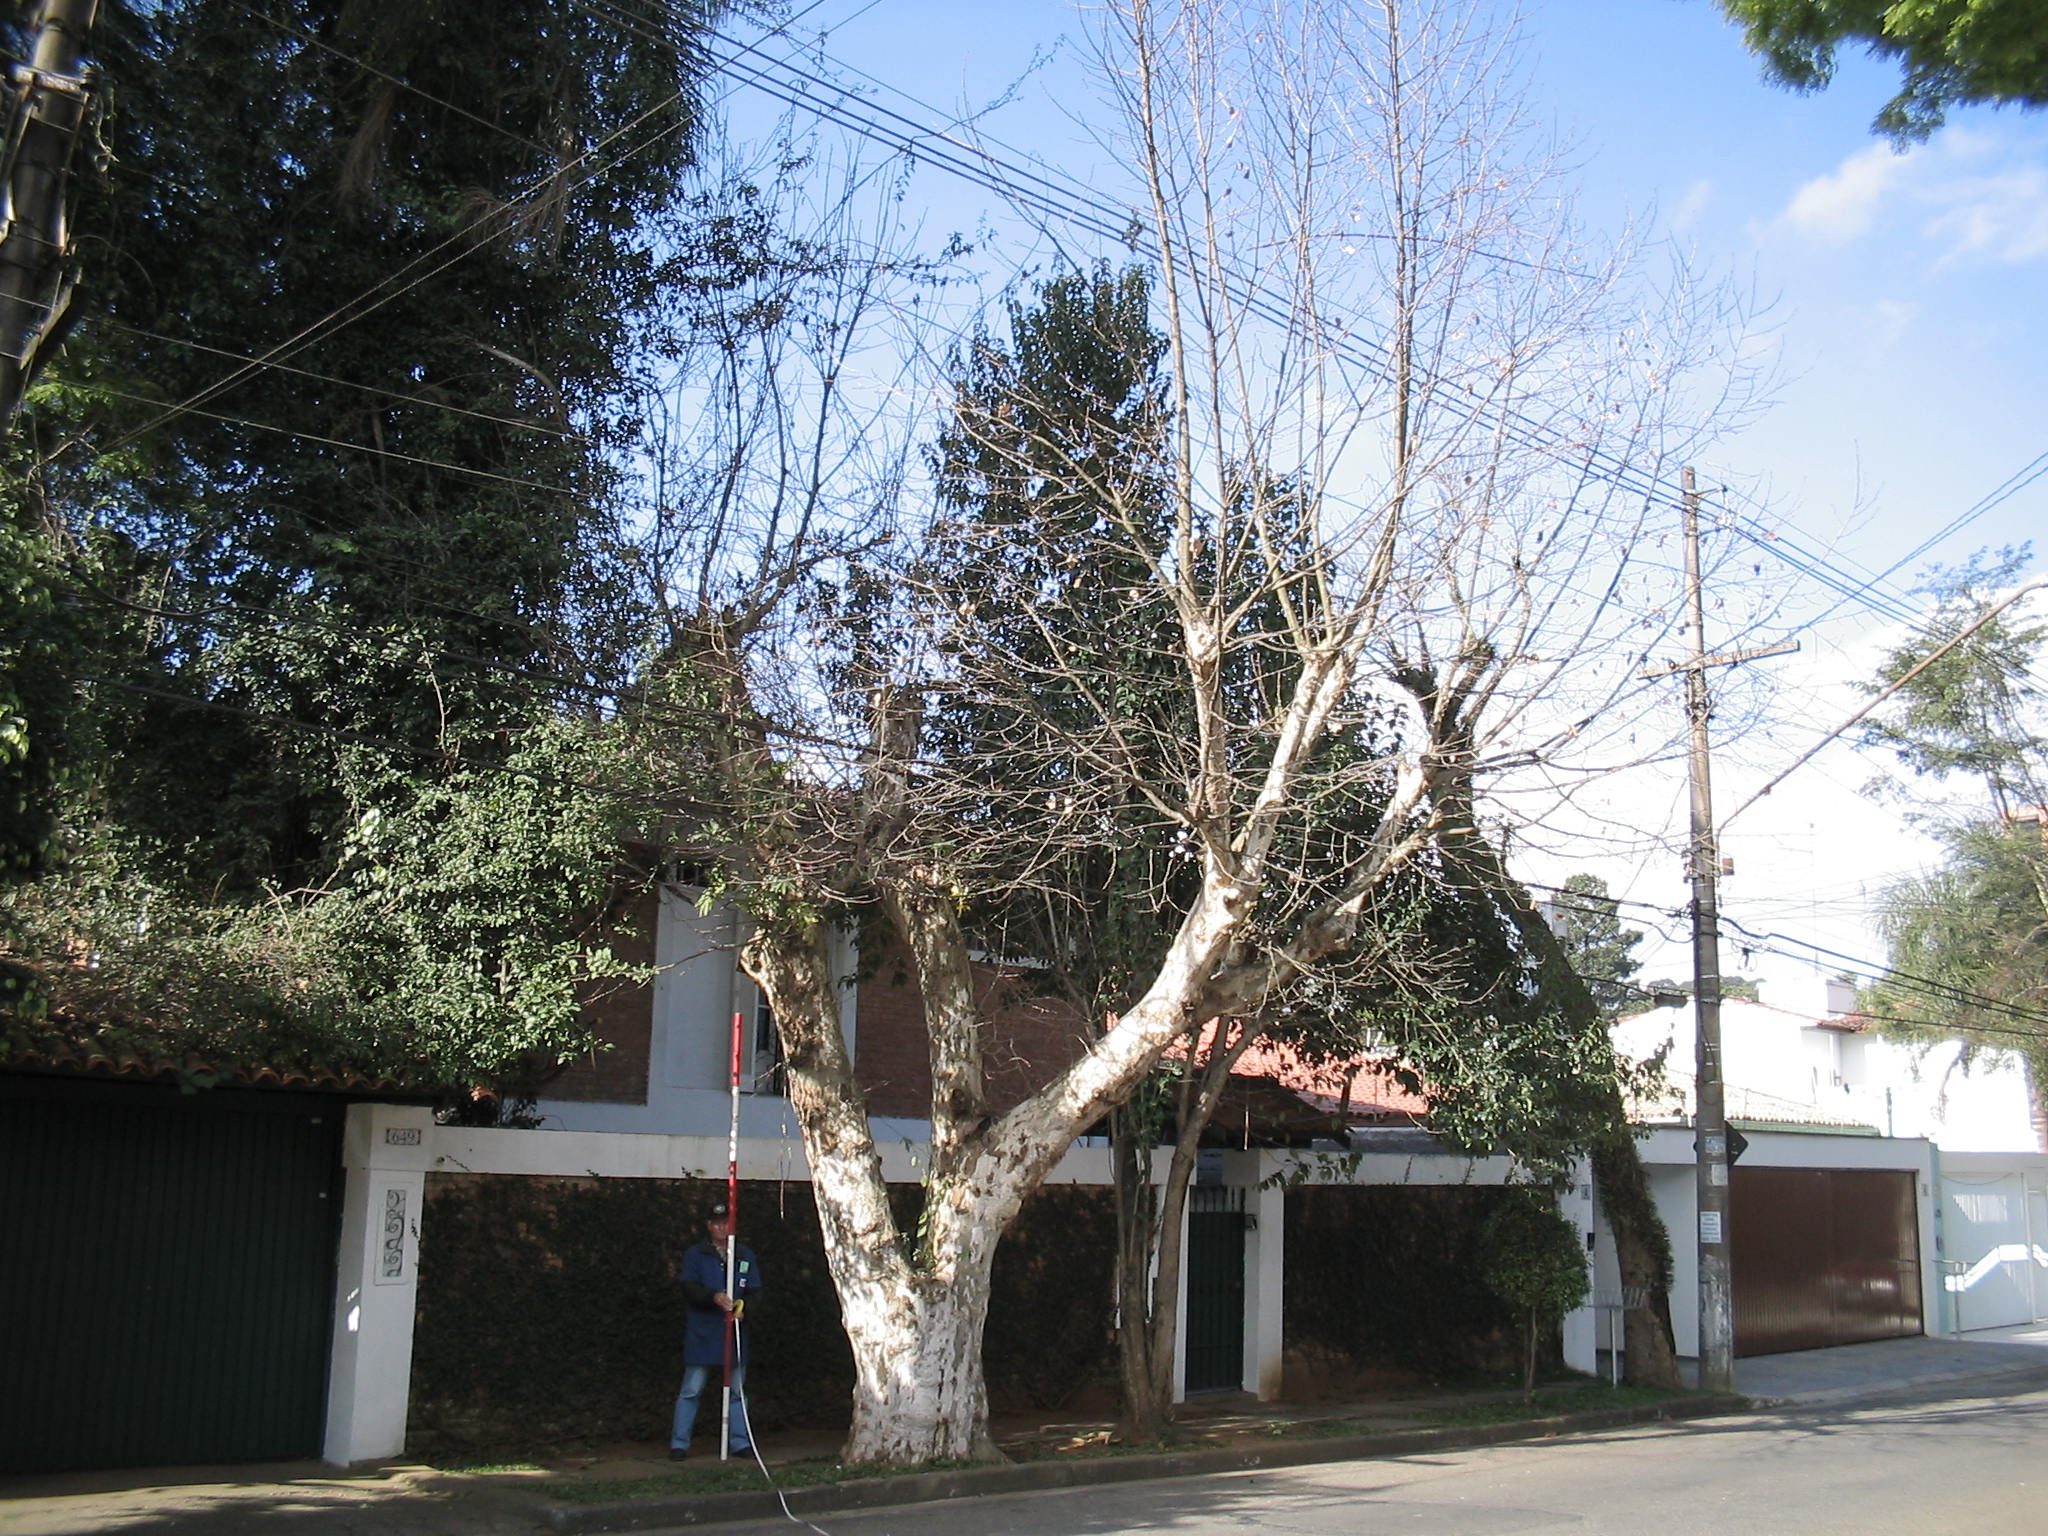stem: (822, 1273, 1018, 1465)
stick: (708, 1020, 747, 1470)
tree: (614, 6, 1788, 1463)
